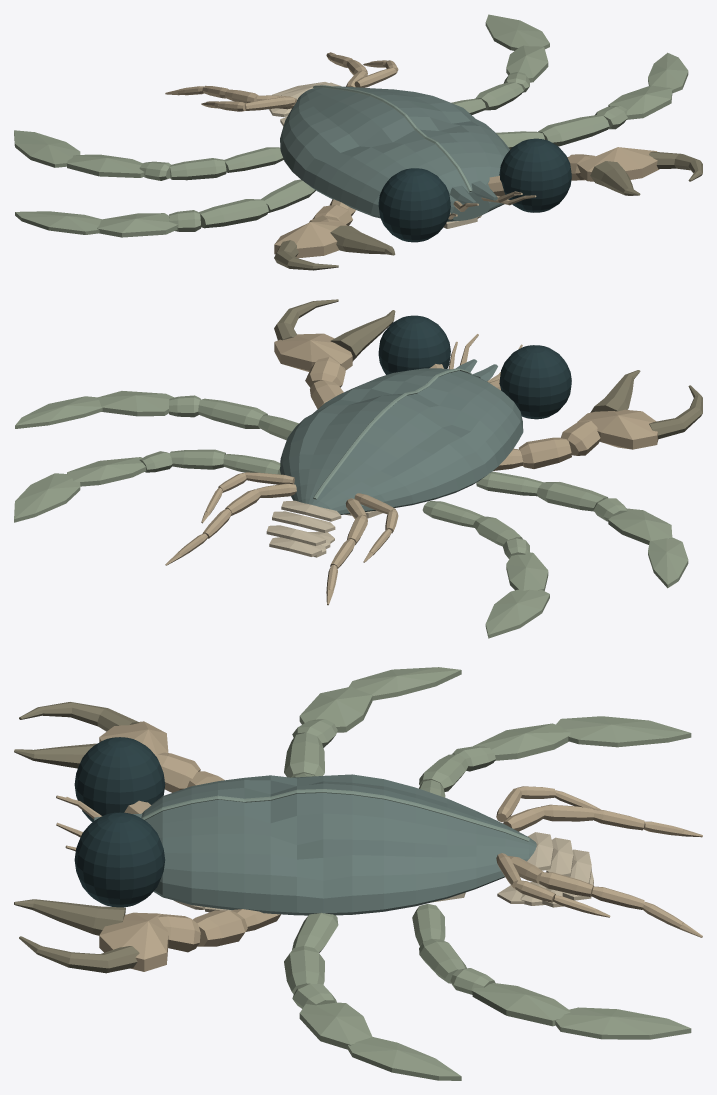
The picture shows the model from 3 angles, top to bottom: view 1: azimuth 30°, elevation 25°; view 2: azimuth 150°, elevation 25°; view 3: azimuth 270°, elevation 25°; orthographic projection. The views are drawn at different scales.
Parts seen in each view (by area): view 1: fusiform-carapace-with-sculpted-grooves, left-P2-paddle-leg, left-P3-paddle-leg, right-P2-paddle-leg, left-large-unprotected-compound-eye, right-large-unprotected-compound-eye, right-P3-paddle-leg, left-P1-stout-spanner-manus, right-P1-stout-spanner-manus, left-P1-single-fixed-deflected-finger, right-P1-single-fixed-deflected-finger, left-P4-reduced-posterior-leg (+9 smaller); view 2: fusiform-carapace-with-sculpted-grooves, left-P2-paddle-leg, right-P3-paddle-leg, right-P2-paddle-leg, left-P3-paddle-leg, left-large-unprotected-compound-eye, right-large-unprotected-compound-eye, six-segment-symmetric-folded-pleon, left-P1-cheliped-arm, left-P1-stout-spanner-manus, right-P1-stout-spanner-manus, right-P4-reduced-posterior-leg (+9 smaller); view 3: fusiform-carapace-with-sculpted-grooves, right-P3-paddle-leg, right-P2-paddle-leg, left-P3-paddle-leg, right-large-unprotected-compound-eye, left-P2-paddle-leg, left-large-unprotected-compound-eye, right-P1-cheliped-arm, right-P1-stout-spanner-manus, right-P4-reduced-posterior-leg, six-segment-symmetric-folded-pleon, left-P4-reduced-posterior-leg (+9 smaller).
Part boxes in pixels (left/top/right/bottom): fusiform-carapace-with-sculpted-grooves: left=280, top=86, right=509, bottom=221; left-P2-paddle-leg: left=15, top=179, right=315, bottom=237; left-P3-paddle-leg: left=14, top=130, right=283, bottom=180; right-P2-paddle-leg: left=496, top=52, right=688, bottom=149; left-large-unprotected-compound-eye: left=378, top=168, right=450, bottom=242; right-large-unprotected-compound-eye: left=499, top=138, right=571, bottom=212; right-P3-paddle-leg: left=451, top=14, right=549, bottom=114; left-P1-stout-spanner-manus: left=274, top=221, right=346, bottom=258; right-P1-stout-spanner-manus: left=577, top=147, right=659, bottom=181; left-P1-single-fixed-deflected-finger: left=330, top=225, right=395, bottom=255; right-P1-single-fixed-deflected-finger: left=590, top=161, right=640, bottom=195; left-P4-reduced-posterior-leg: left=165, top=85, right=296, bottom=109; fusiform-carapace-with-sculpted-grooves: left=280, top=368, right=523, bottom=514; left-P2-paddle-leg: left=476, top=471, right=688, bottom=588; right-P3-paddle-leg: left=14, top=449, right=280, bottom=522; right-P2-paddle-leg: left=15, top=391, right=298, bottom=440; left-P3-paddle-leg: left=422, top=501, right=549, bottom=638; left-large-unprotected-compound-eye: left=499, top=345, right=571, bottom=419; right-large-unprotected-compound-eye: left=378, top=315, right=450, bottom=374; six-segment-symmetric-folded-pleon: left=266, top=500, right=341, bottom=557; left-P1-cheliped-arm: left=493, top=421, right=600, bottom=470; left-P1-stout-spanner-manus: left=577, top=409, right=658, bottom=449; right-P1-stout-spanner-manus: left=274, top=333, right=352, bottom=371; right-P4-reduced-posterior-leg: left=165, top=483, right=296, bottom=565; fusiform-carapace-with-sculpted-grooves: left=141, top=774, right=536, bottom=915; right-P3-paddle-leg: left=412, top=904, right=691, bottom=1039; right-P2-paddle-leg: left=284, top=912, right=461, bottom=1080; left-P3-paddle-leg: left=419, top=716, right=691, bottom=797; right-large-unprotected-compound-eye: left=74, top=812, right=165, bottom=907; left-P2-paddle-leg: left=284, top=667, right=461, bottom=777; left-large-unprotected-compound-eye: left=74, top=737, right=165, bottom=821; right-P1-cheliped-arm: left=158, top=909, right=280, bottom=952; right-P1-stout-spanner-manus: left=99, top=912, right=168, bottom=971; right-P4-reduced-posterior-leg: left=508, top=856, right=702, bottom=937; six-segment-symmetric-folded-pleon: left=520, top=832, right=593, bottom=907; left-P4-reduced-posterior-leg: left=503, top=804, right=702, bottom=837.
Size of the model in its own units: 0.0184 by 0.00251 by 0.0131.
